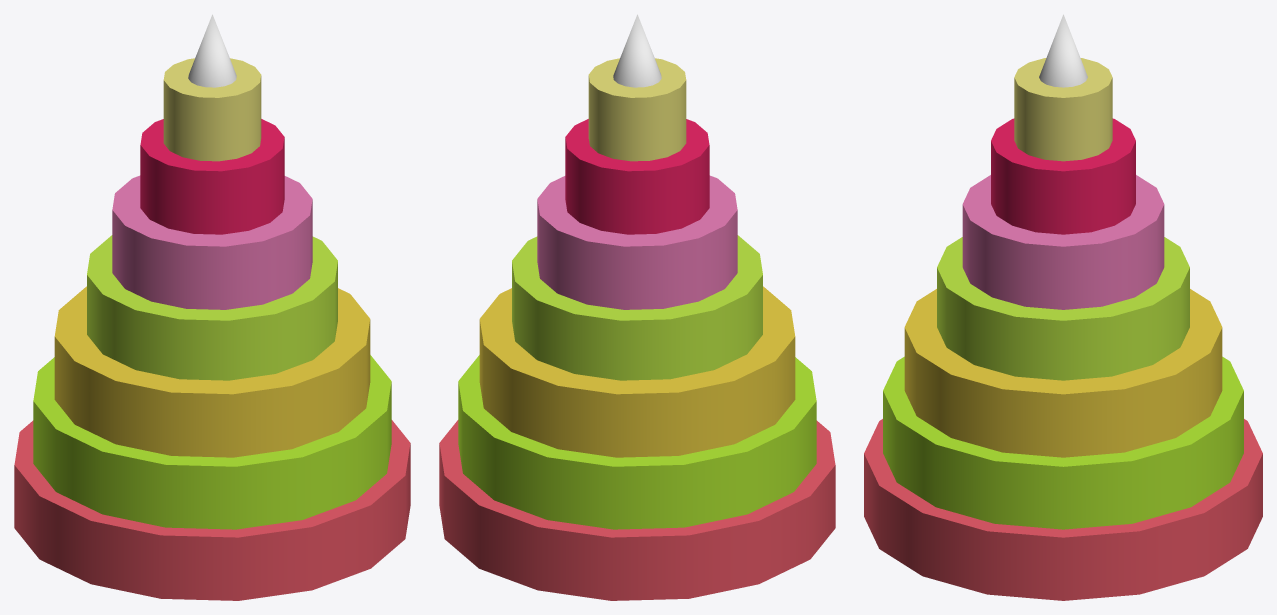
File: 1_piramida.fbx
The picture shows the model from 3 angles, left to right: view 1: azimuth 30°, elevation 25°; view 2: azimuth 150°, elevation 25°; view 3: azimuth 270°, elevation 25°; orthographic projection.
Visible parts, largest first — view 1: Cylinder.006; view 2: Cylinder.006; view 3: Cylinder.006.
Part boxes in pixels (<box>): Cylinder.006: <box>14,14,410,600</box>; Cylinder.006: <box>439,14,835,600</box>; Cylinder.006: <box>864,14,1262,600</box>.
Bounding box in the file's own units: 8.93 × 12.42 × 8.93.
